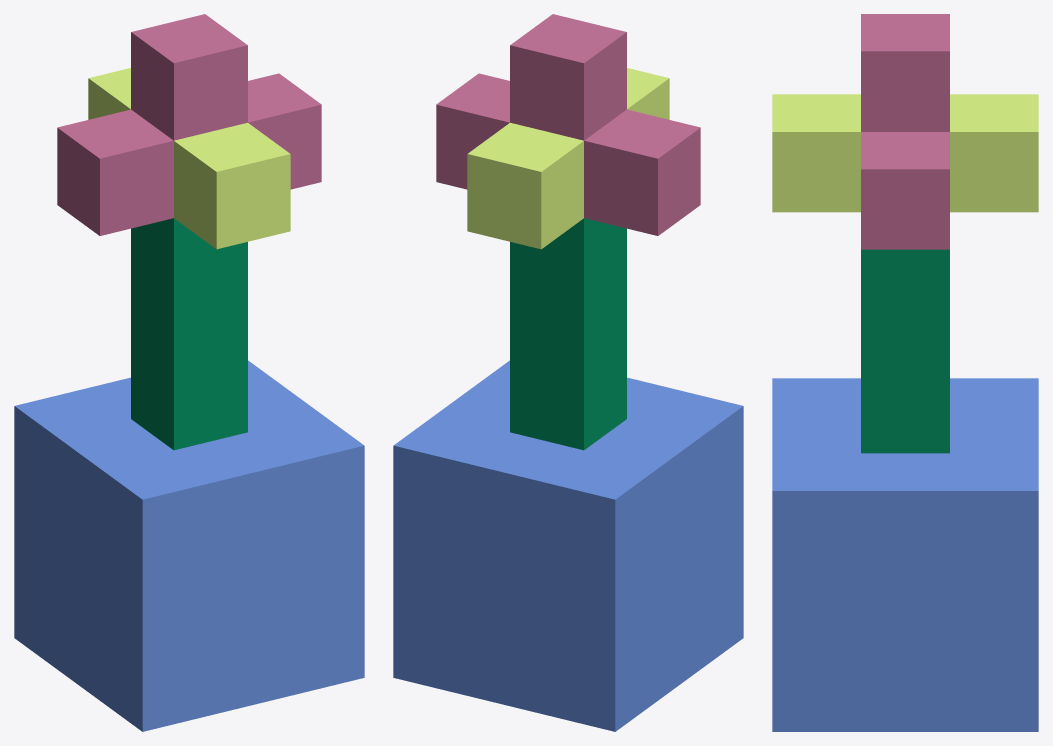
The model's file is goldoon.dae.
3 views of the same model, side by side, from view 1: azimuth 30°, elevation 25°; view 2: azimuth 150°, elevation 25°; view 3: azimuth 270°, elevation 25° (orthographic). The views are drawn at different scales.
Parts seen in each view (by area): view 1: goldoon; view 2: goldoon; view 3: goldoon.
Boxes of the visible parts, left/top/right/bottom form: goldoon: left=14, top=14, right=364, bottom=731; goldoon: left=393, top=14, right=743, bottom=731; goldoon: left=772, top=14, right=1038, bottom=731.
Size of the model in its own units: 0.3 by 0.3 by 0.8.
Materials: 1 (1 with a texture image).
